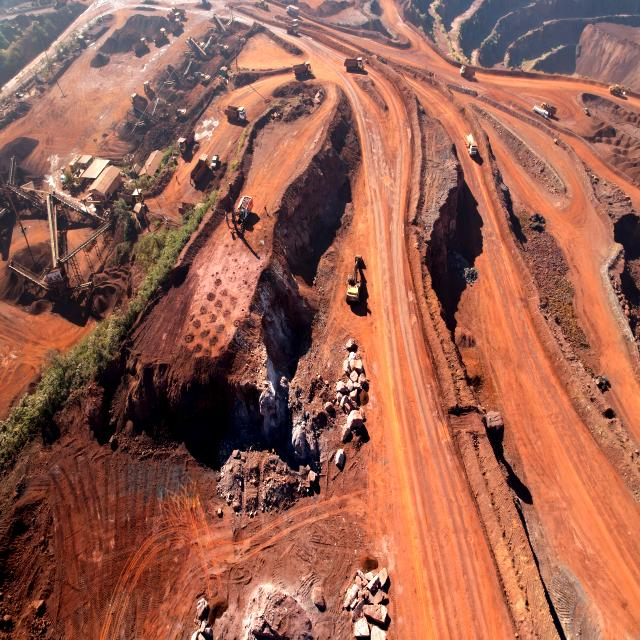Blast rig: (228, 183, 254, 231)
Dumper truck: (191, 152, 210, 180), (177, 129, 196, 152), (293, 60, 312, 78), (466, 130, 477, 158), (132, 37, 150, 54), (226, 106, 247, 120), (346, 58, 364, 70), (130, 93, 148, 105), (152, 28, 167, 42), (168, 7, 186, 18), (460, 67, 475, 79), (170, 19, 181, 34), (541, 101, 555, 112), (286, 25, 298, 35), (286, 18, 298, 28), (286, 6, 298, 16), (54, 0, 66, 9)
Excavator: (347, 254, 365, 304), (161, 100, 187, 123), (193, 70, 210, 86), (212, 42, 229, 56)
car: (582, 107, 589, 116)
person: (264, 203, 268, 214), (188, 177, 192, 184), (176, 175, 178, 184)
